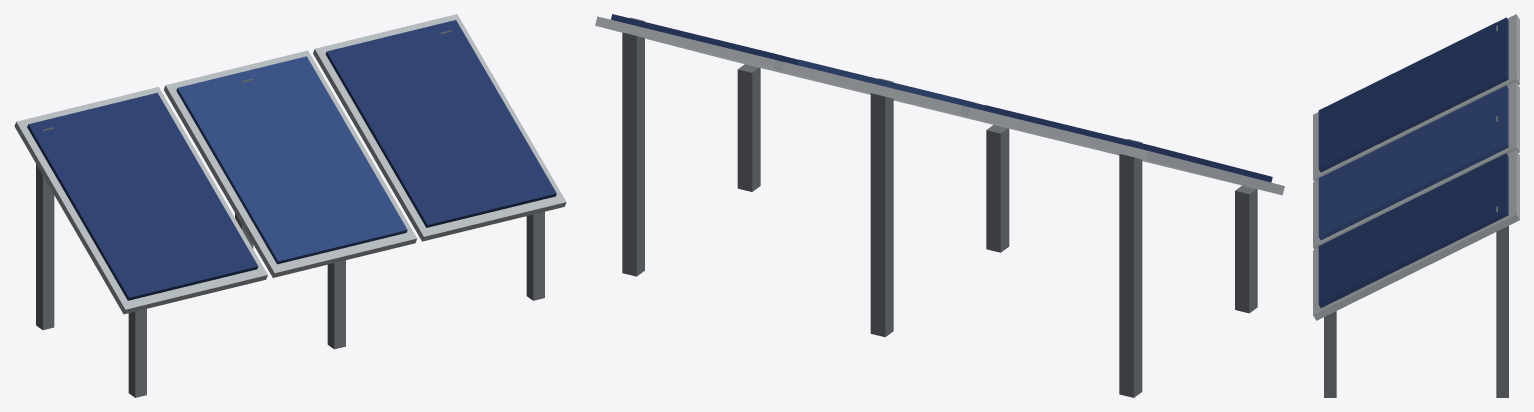
The model's file is solar_panel.glb.
3 renders of one model, left to right at view 1: azimuth 30°, elevation 25°; view 2: azimuth 150°, elevation 25°; view 3: azimuth 270°, elevation 25°, orthographic. The views are drawn at different scales.
Visible parts, largest first — view 1: solar_panel2; view 2: solar_panel2; view 3: solar_panel2.
Boxes of the visible parts, bbox=[...] form: solar_panel2: bbox=[14, 14, 566, 397]; solar_panel2: bbox=[595, 14, 1284, 397]; solar_panel2: bbox=[1313, 14, 1519, 397].
Size of the model in its own units: 2.66 by 1.18 by 1.16.
